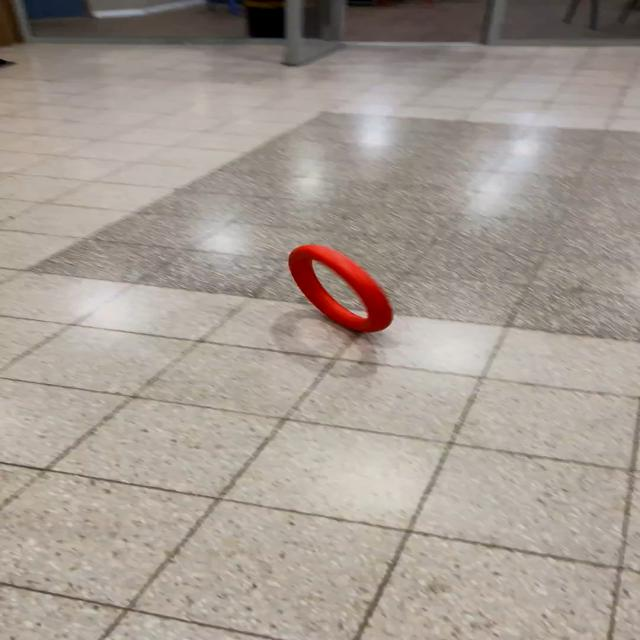note: (284, 242, 396, 334)
